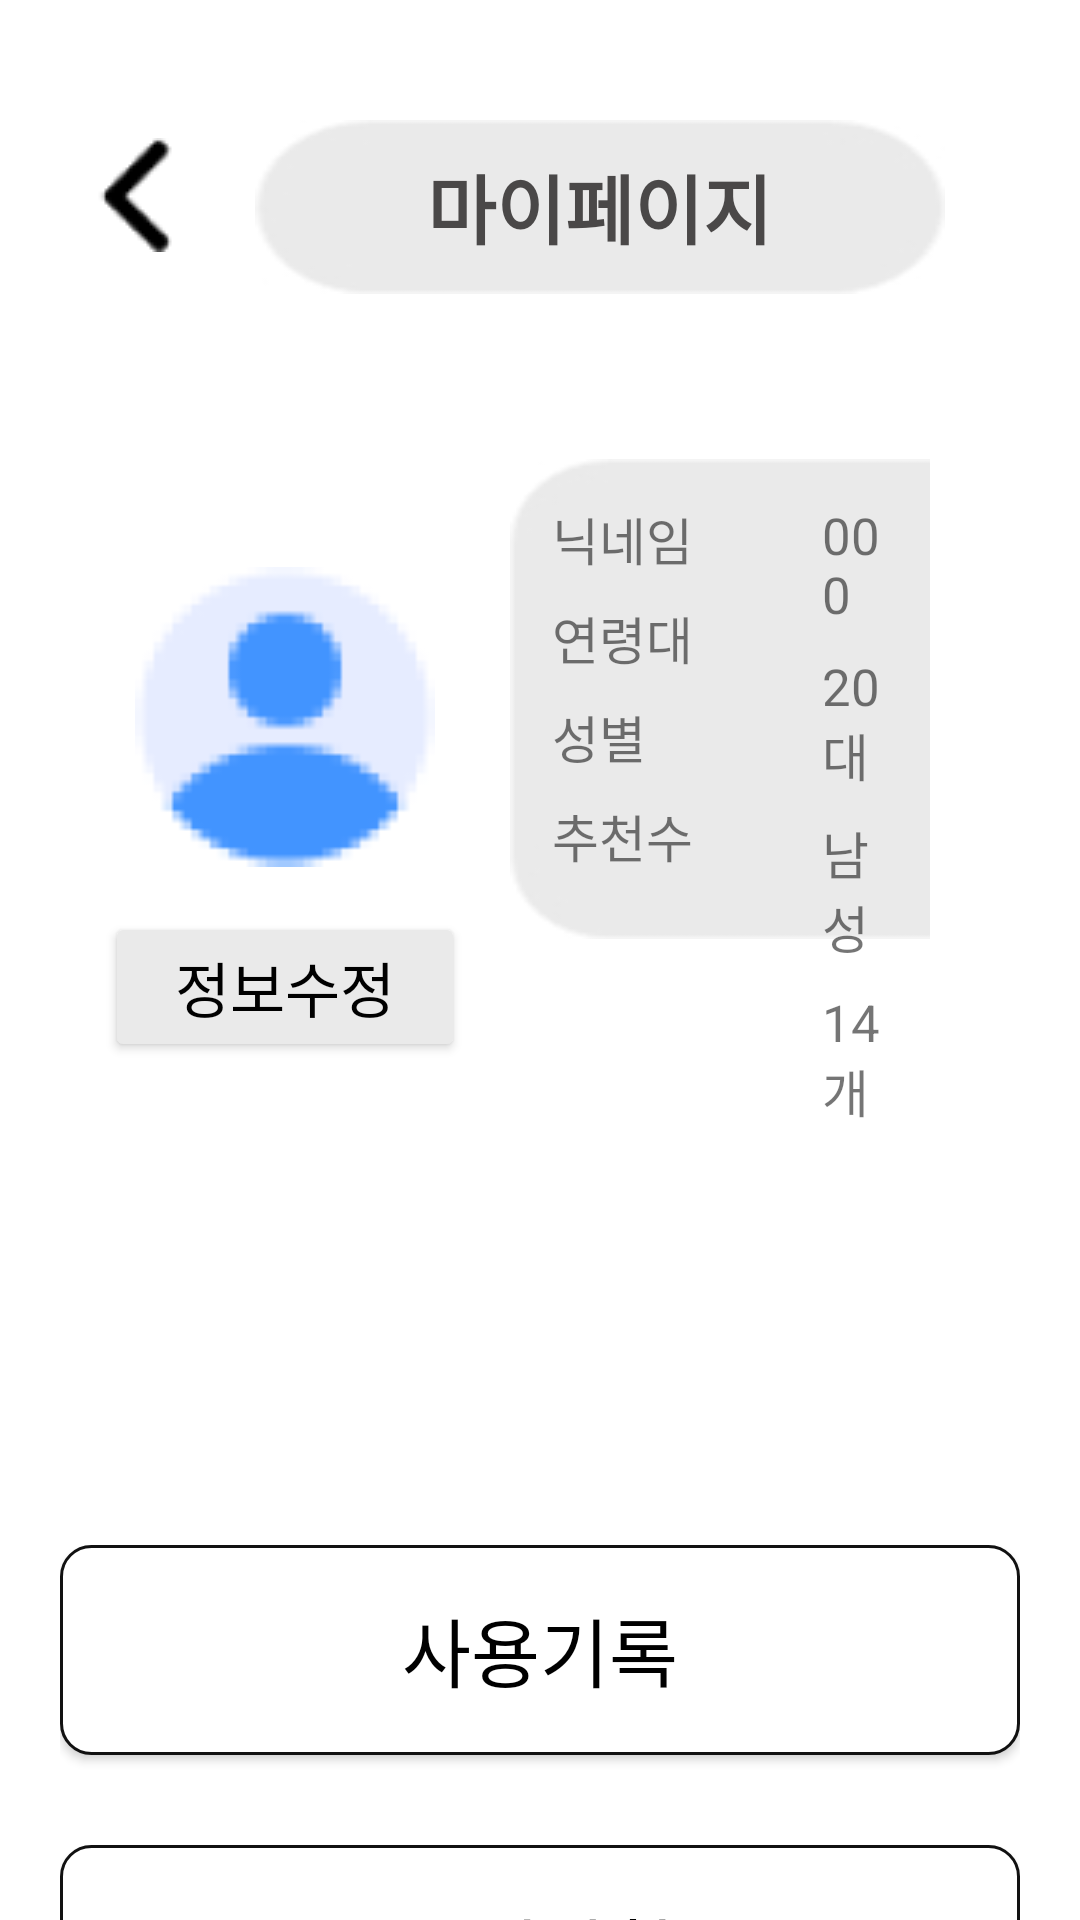

Named icons in this screenshot (1080w x 1920h) and their bounding boxes, bbox(x1, y1, x2, y2):
back: bbox(102, 138, 171, 252)
user: bbox(148, 580, 422, 867)
